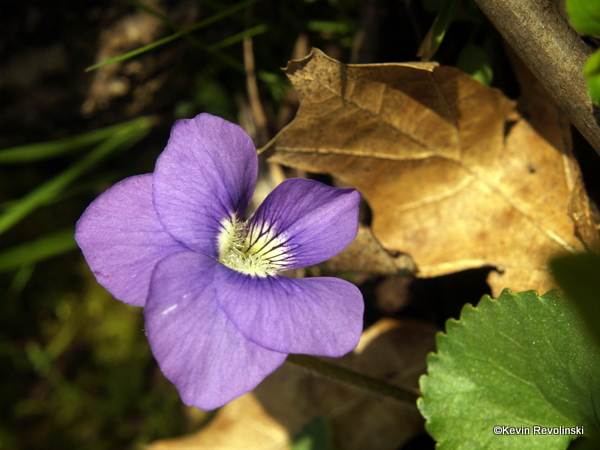violet: (66, 106, 369, 410)
